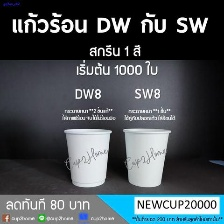paper_cup: (59, 124, 115, 191), (119, 124, 175, 191)
